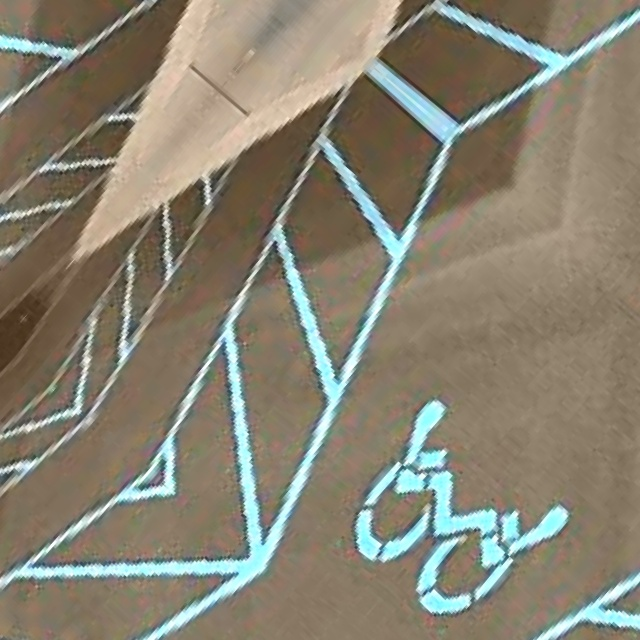ISA: (313, 386, 506, 587), (390, 452, 583, 640), (107, 627, 299, 640)
